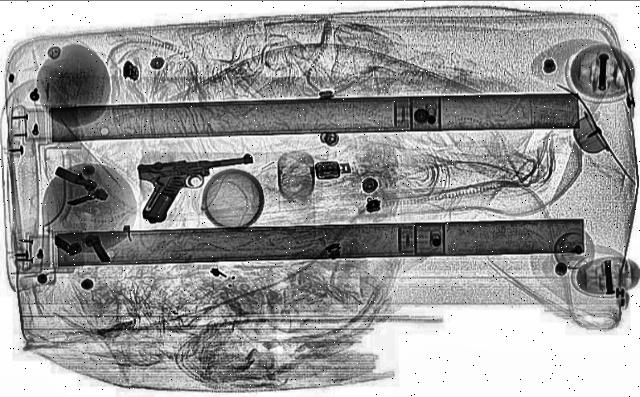Gun: (111, 146, 276, 224)
